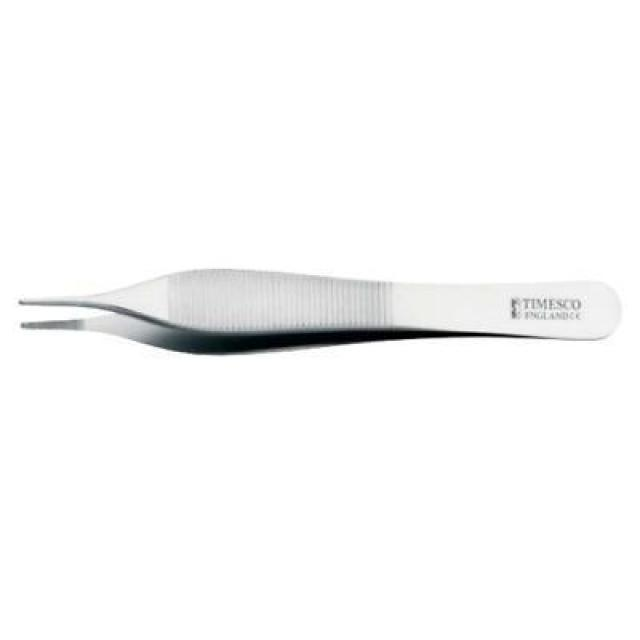Forceps: (12, 258, 626, 364)
